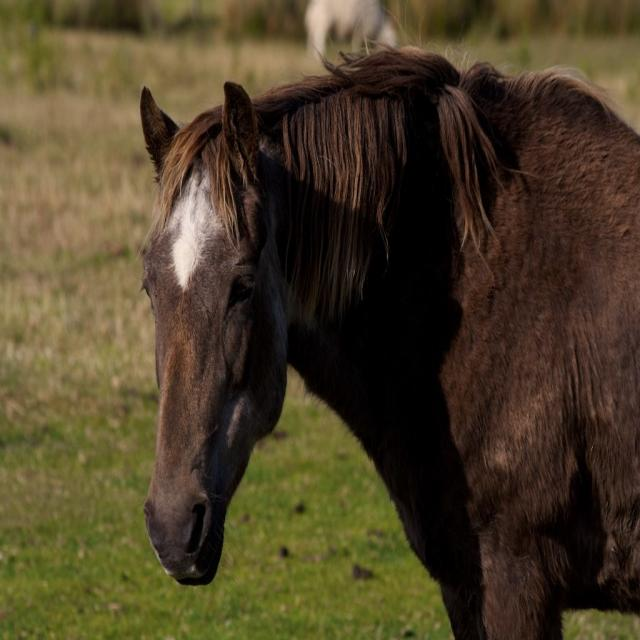Horse: (142, 0, 639, 639)
